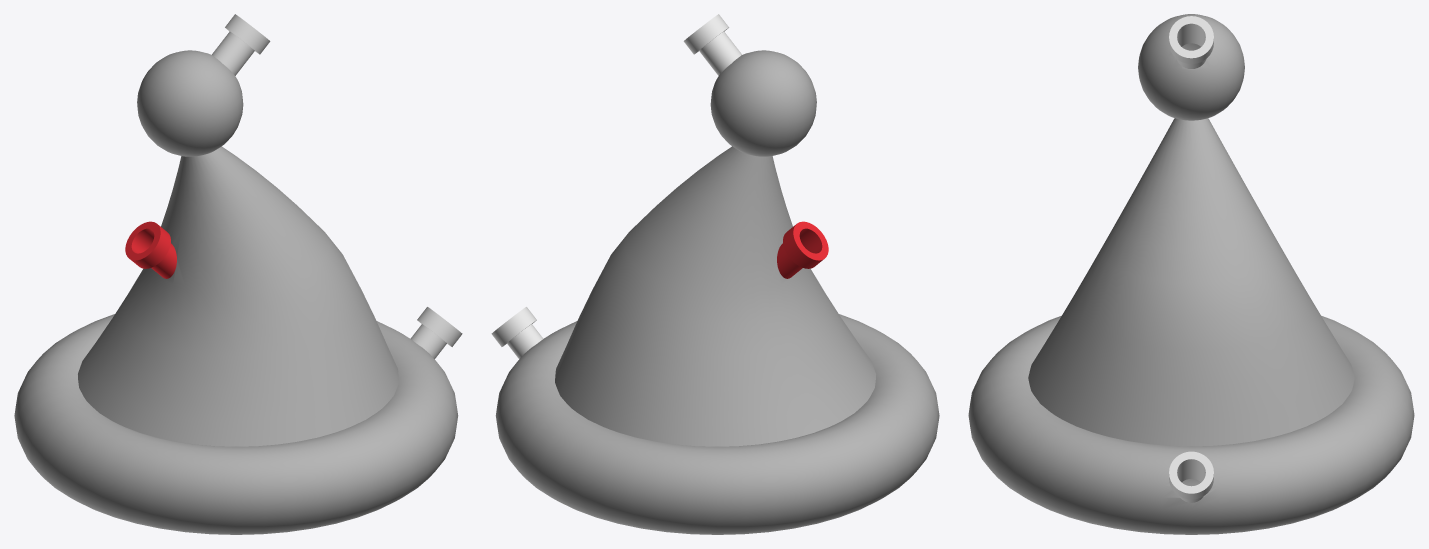
The model's file is hat.fbx.
3 views of the same model, side by side, from view 1: azimuth 30°, elevation 25°; view 2: azimuth 150°, elevation 25°; view 3: azimuth 270°, elevation 25° (orthographic).
Visible parts, largest first — view 1: Cylinder.004, Torus.001, Sphere.001, Cylinder.005, Cylinder.006, Cylinder.007; view 2: Cylinder.004, Torus.001, Sphere.001, Cylinder.005, Cylinder.006, Cylinder.007; view 3: Cylinder.004, Torus.001, Sphere.001, Cylinder.006, Cylinder.007.
Boxes of the visible parts, x1,y1,x2,y2 form: Cylinder.004: (78,146,398,446); Torus.001: (14,314,458,534); Sphere.001: (137,50,243,156); Cylinder.005: (125,221,176,278); Cylinder.006: (212,14,270,75); Cylinder.007: (410,307,462,359); Cylinder.004: (555,146,875,446); Torus.001: (495,314,939,534); Sphere.001: (710,50,816,156); Cylinder.005: (777,221,828,278); Cylinder.006: (683,14,741,75); Cylinder.007: (491,307,543,359); Cylinder.004: (1028,118,1354,446); Torus.001: (968,316,1414,534); Sphere.001: (1138,14,1244,120); Cylinder.006: (1169,16,1213,68); Cylinder.007: (1169,451,1213,502).
Size of the model in its own units: 270 by 273 by 250.
